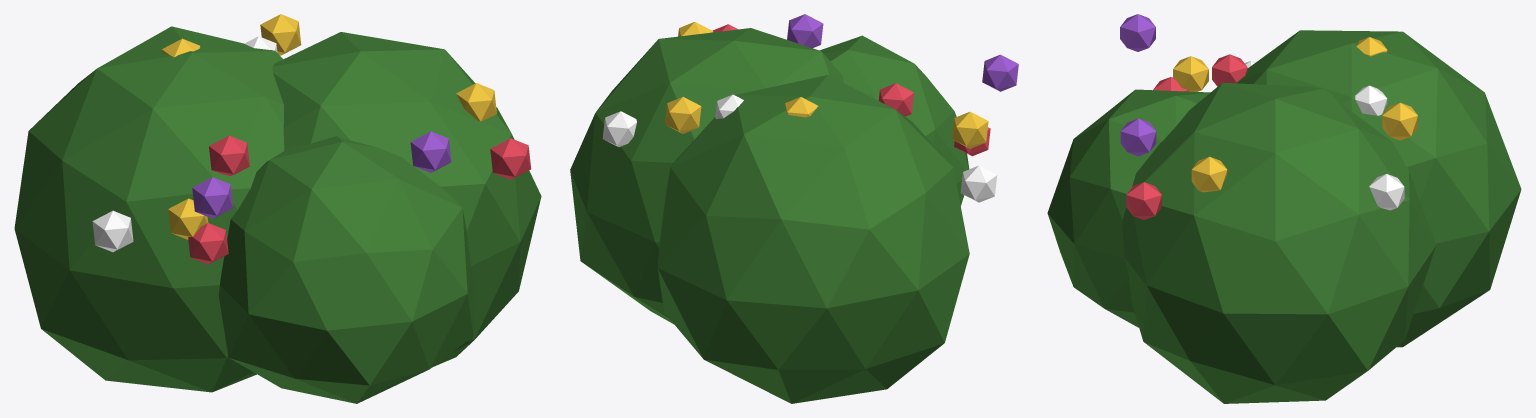
File: busch_blumen.glb
3 renders of one model, left to right at view 1: azimuth 30°, elevation 25°; view 2: azimuth 150°, elevation 25°; view 3: azimuth 270°, elevation 25°, orthographic. The views are drawn at different scales.
Parts seen in each view (by area): view 1: busch, busch.002, busch.003, bluete.006, bluete.003, bluete.007, bluete.009, bluete.005, bluete.013, bluete.004, bluete, bluete.008; view 2: busch, busch.003, busch.002, bluete.007, bluete.008, bluete.004, bluete.006, bluete.003, bluete.002, bluete.005, bluete.012, bluete.010; view 3: busch.003, busch, busch.002, bluete.003, bluete.004, bluete.007, bluete.009, bluete, bluete.008, bluete.002, bluete.005, bluete.010.
Part boxes in pixels (<box>): busch: <box>14,26,284,392</box>; busch.002: <box>218,136,473,403</box>; busch.003: <box>272,32,541,366</box>; bluete.006: <box>92,210,133,252</box>; bluete.003: <box>410,131,451,172</box>; bluete.007: <box>192,177,232,218</box>; bluete.009: <box>490,138,531,179</box>; bluete.005: <box>209,135,249,176</box>; bluete.013: <box>188,223,228,264</box>; bluete.004: <box>260,14,301,55</box>; bluete: <box>456,83,496,121</box>; bluete.008: <box>168,198,208,239</box>; busch: <box>657,75,969,403</box>; busch.003: <box>570,28,843,324</box>; busch.002: <box>819,35,969,206</box>; bluete.007: <box>982,54,1018,91</box>; bluete.008: <box>952,111,988,148</box>; bluete.004: <box>665,97,701,133</box>; bluete.006: <box>960,165,997,202</box>; bluete.003: <box>787,14,823,48</box>; bluete.002: <box>602,111,636,147</box>; bluete.005: <box>878,83,913,116</box>; bluete.012: <box>785,97,818,117</box>; bluete.010: <box>715,94,743,119</box>; busch.003: <box>1122,82,1435,403</box>; busch: <box>1236,30,1521,347</box>; busch.002: <box>1047,89,1210,327</box>; bluete.003: <box>1120,118,1156,156</box>; bluete.004: <box>1382,102,1417,140</box>; bluete.007: <box>1120,14,1155,51</box>; bluete.009: <box>1126,182,1161,219</box>; bluete: <box>1191,156,1227,192</box>; bluete.008: <box>1173,56,1208,91</box>; bluete.002: <box>1369,174,1404,210</box>; bluete.005: <box>1212,54,1247,86</box>; bluete.010: <box>1355,85,1387,115</box>.
Size of the model in its own units: 1.95 by 1.44 by 2.03.
